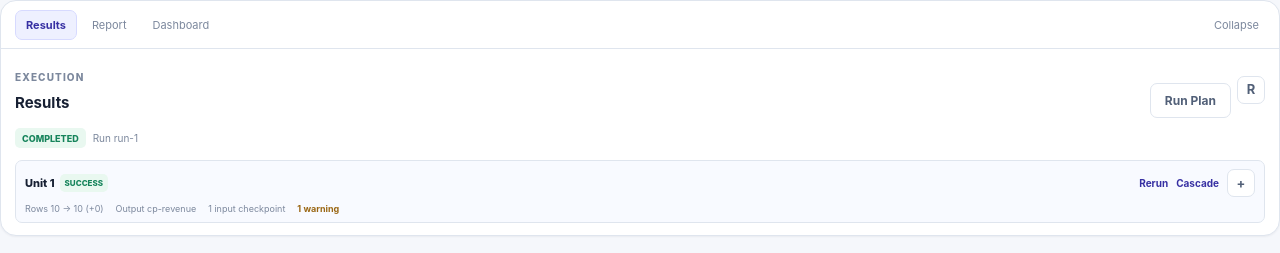
it: Output Dock › loads Report on demand and never requests the compatibility Dashboard
Click the tab "Dashboard" at (181, 24), box [142, 10, 220, 40]
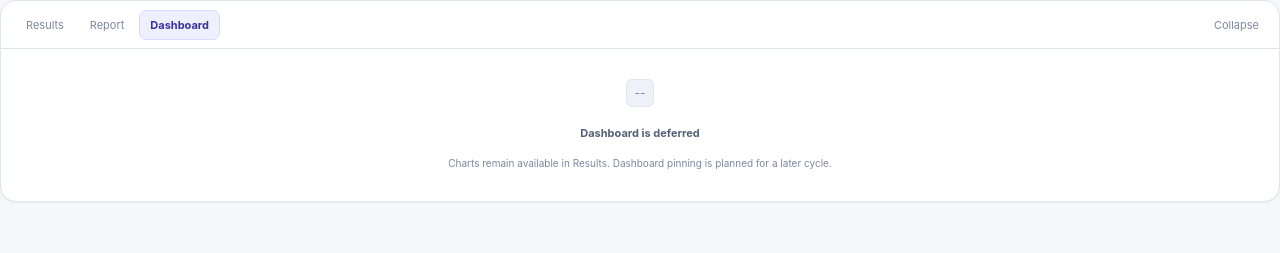
Expected: the text "Dashboard is deferred" is shown, [580, 126, 700, 140]
